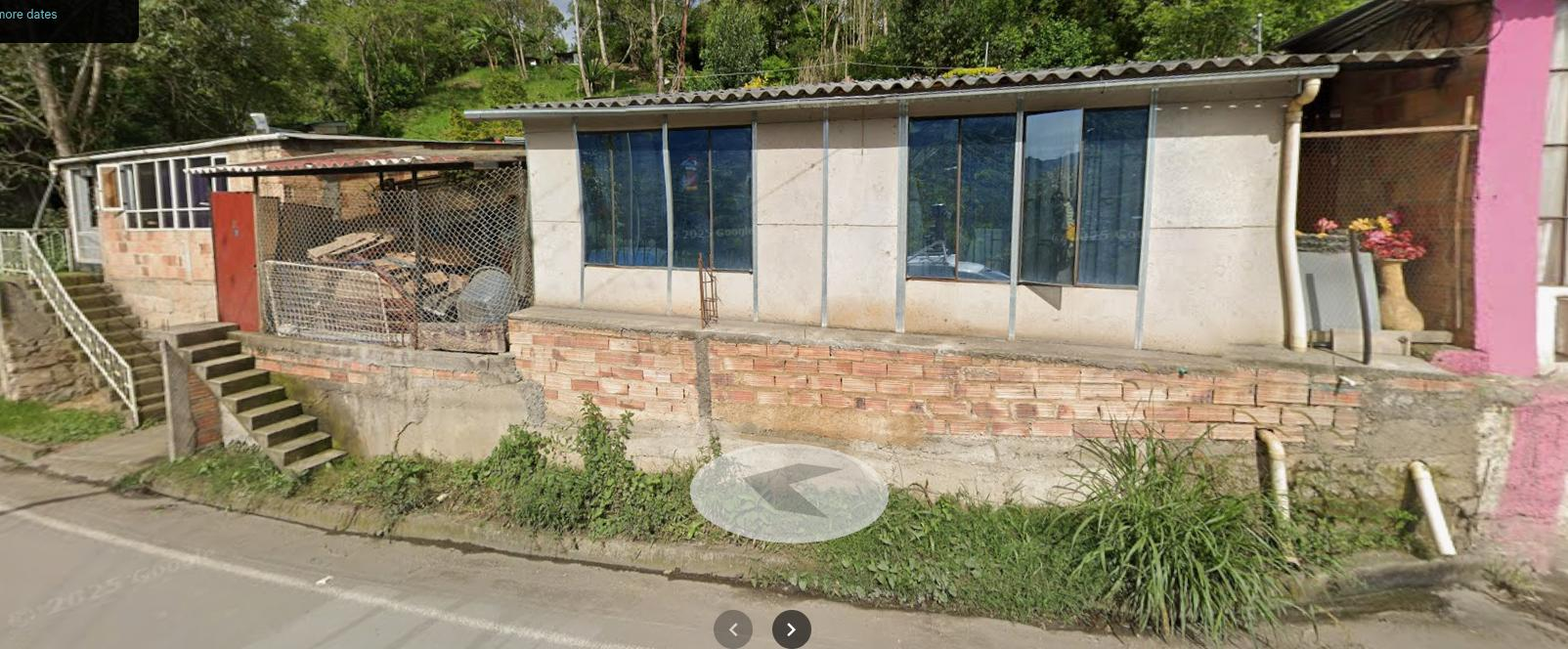casa: (168, 51, 1489, 499), (0, 131, 478, 427)
